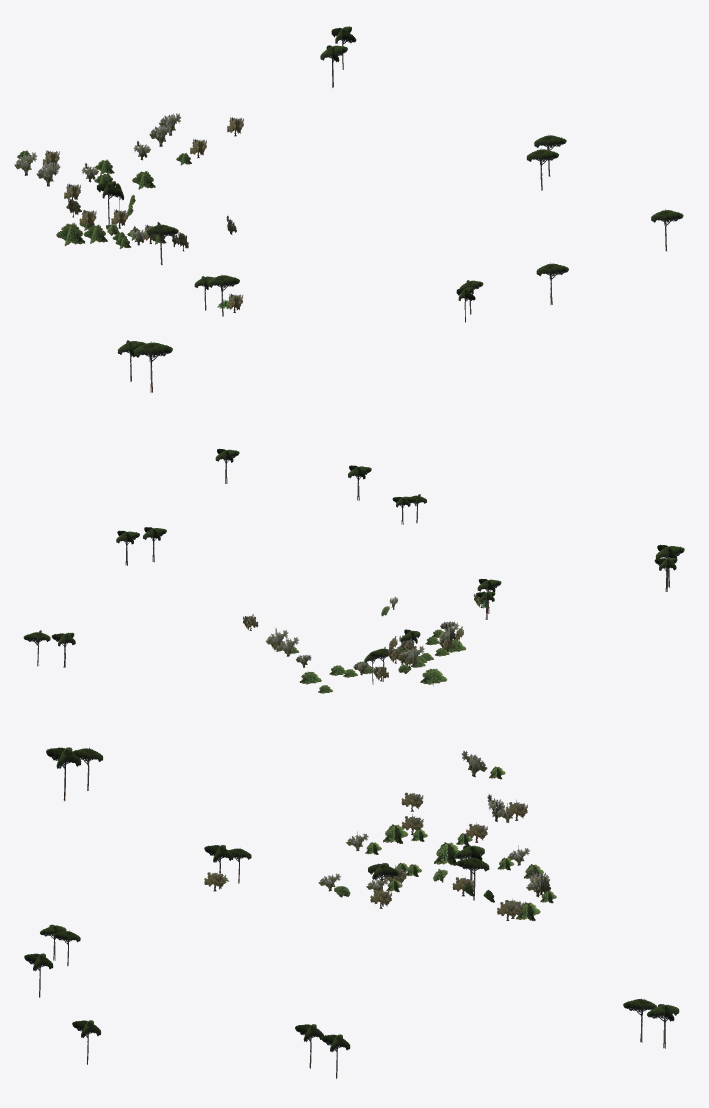
File: colera2finalplantsv2.glb
3 views of the same model, one above another, from view 1: azimuth 30°, elevation 25°; view 2: azimuth 150°, elevation 25°; view 3: azimuth 270°, elevation 25° (orthographic). The views are drawn at different scales.
Visible parts, largest first — view 1: Plane.007; view 2: Plane.007; view 3: Plane.007.
Boxes of the visible parts, bbox=[...] form: Plane.007: bbox=[14, 26, 683, 392]; Plane.007: bbox=[23, 448, 684, 693]; Plane.007: bbox=[24, 747, 679, 1078].
Size of the model in its own units: 1098 by 192 by 1053.
98 materials, 98 textured.
